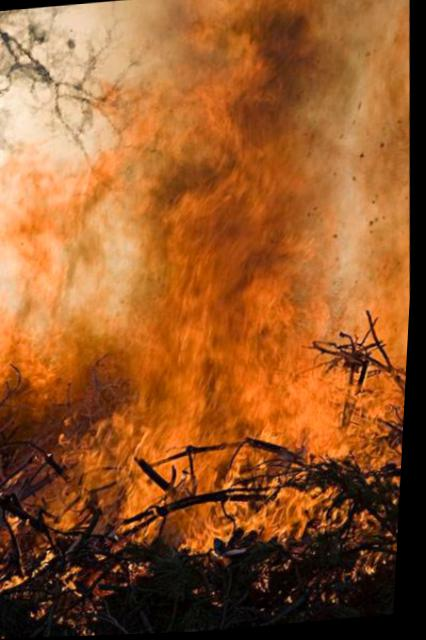fire: (0, 75, 421, 587)
